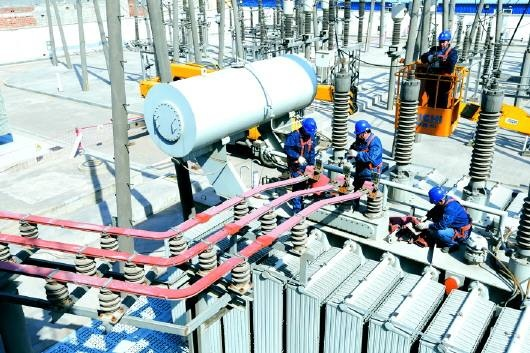blue: (352, 119, 372, 142), (298, 116, 316, 139), (428, 186, 446, 209), (436, 30, 451, 49)
